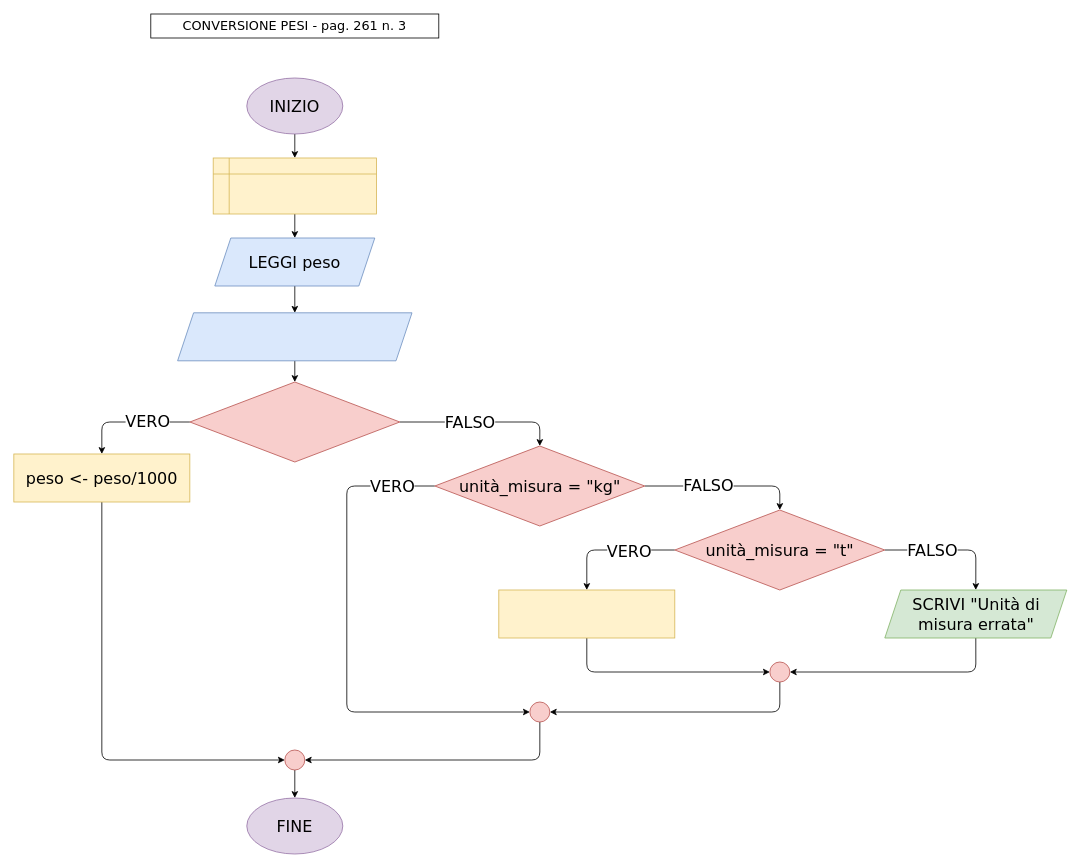
Image size: 1082x868. Some labels were removed from this diagram. Each missing label, with the box of its shape:
LEGGI unità_misura: (177, 312, 412, 361)
peso <- peso*1000: (498, 589, 675, 638)
peso: REALE: (212, 157, 376, 214)
unità_misura = "g": (189, 381, 400, 462)
